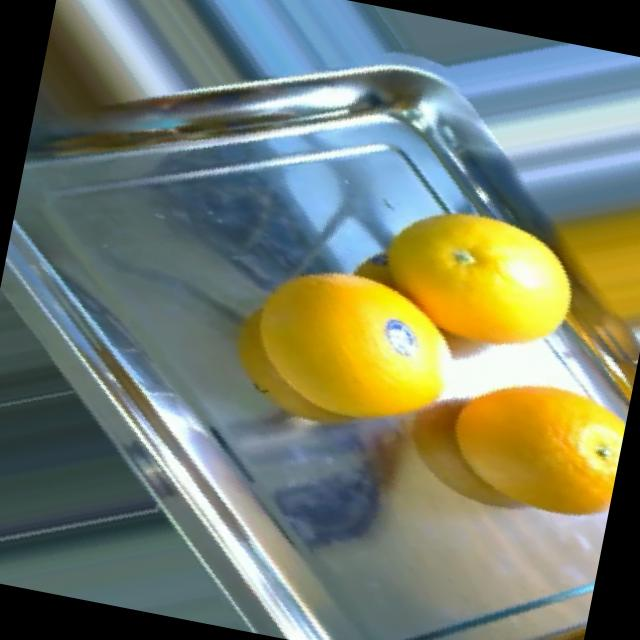Fruit: (193, 238, 414, 457)
